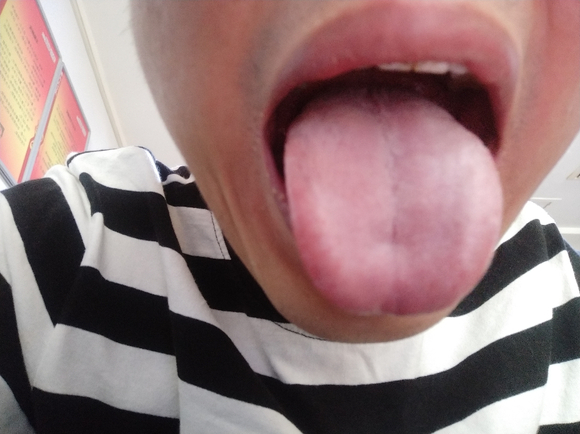baitaishe: (284, 81, 502, 316)
pangdashe: (284, 81, 502, 316)
